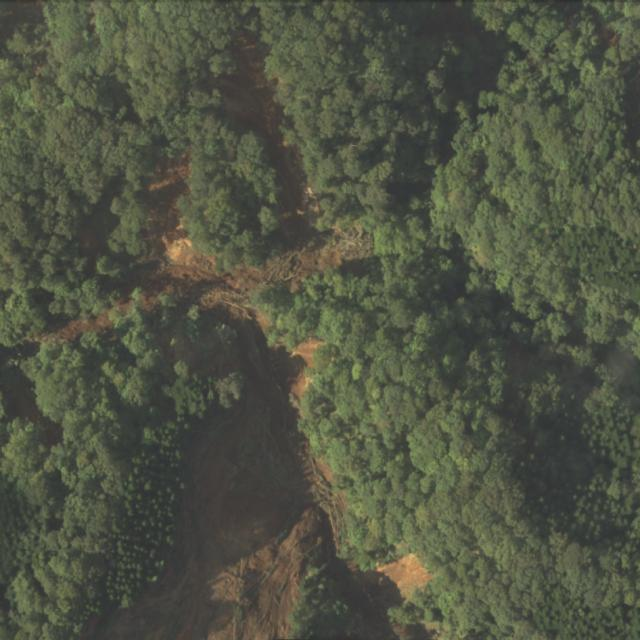landslide: (42, 29, 367, 342), (81, 331, 401, 640)
